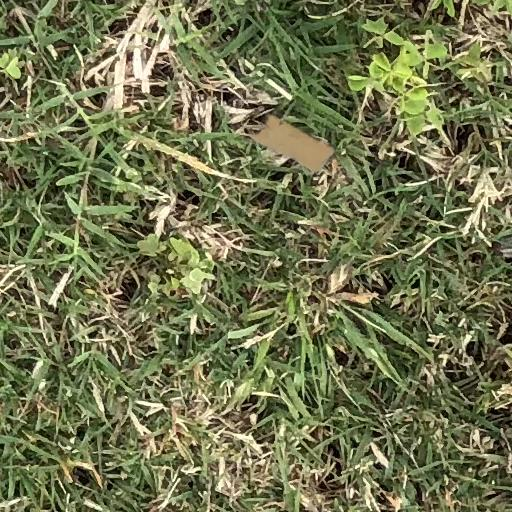smoke: (252, 116, 333, 172)
